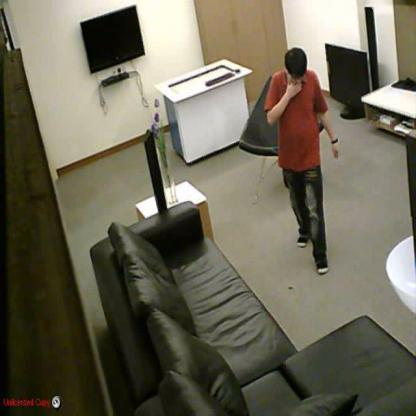Person: (265, 47, 338, 272)
